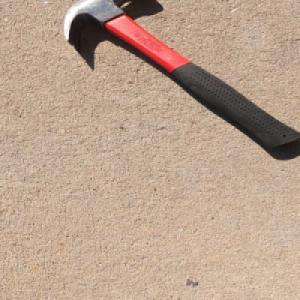Hammer: (58, 0, 300, 151)
